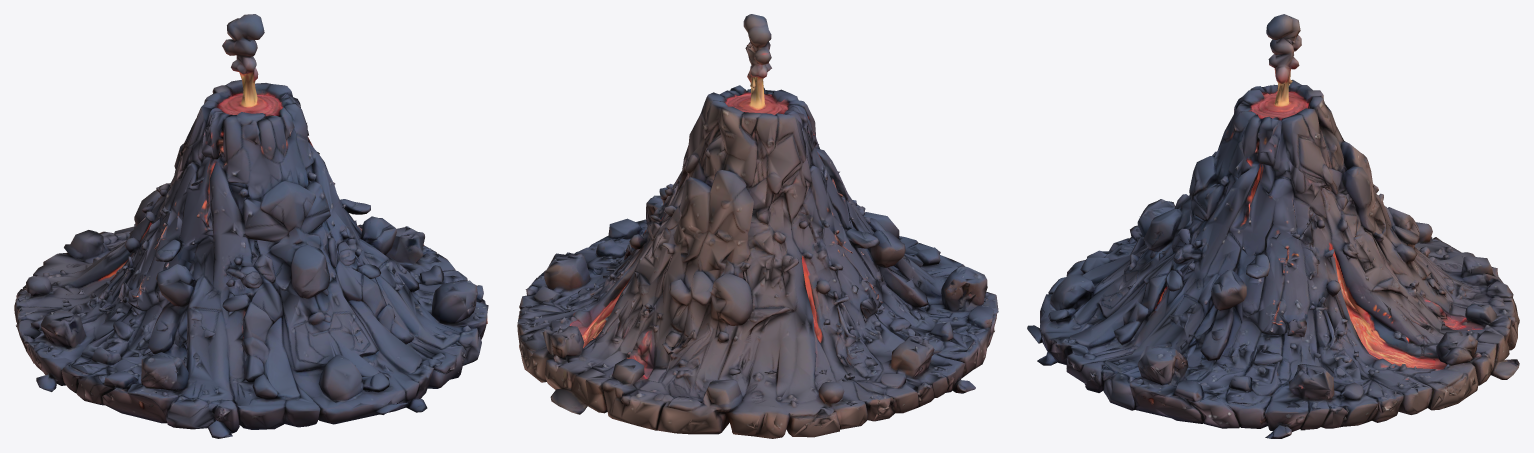
File: volcano.glb
The picture shows the model from 3 angles, left to right: view 1: azimuth 30°, elevation 25°; view 2: azimuth 150°, elevation 25°; view 3: azimuth 270°, elevation 25°; orthographic projection.
Parts seen in each view (by area): view 1: tripo_node_a9f95e57-6433-44ab-a6d5-379fcd017409; view 2: tripo_node_a9f95e57-6433-44ab-a6d5-379fcd017409; view 3: tripo_node_a9f95e57-6433-44ab-a6d5-379fcd017409.
Part boxes in pixels (box(x1,y1,x2,y2)): tripo_node_a9f95e57-6433-44ab-a6d5-379fcd017409: box(14, 14, 488, 438); tripo_node_a9f95e57-6433-44ab-a6d5-379fcd017409: box(517, 14, 998, 438); tripo_node_a9f95e57-6433-44ab-a6d5-379fcd017409: box(1027, 14, 1519, 438).
Bounding box in the file's own units: 0.975 × 0.7053 × 0.9775.
1 material, 1 textured.
